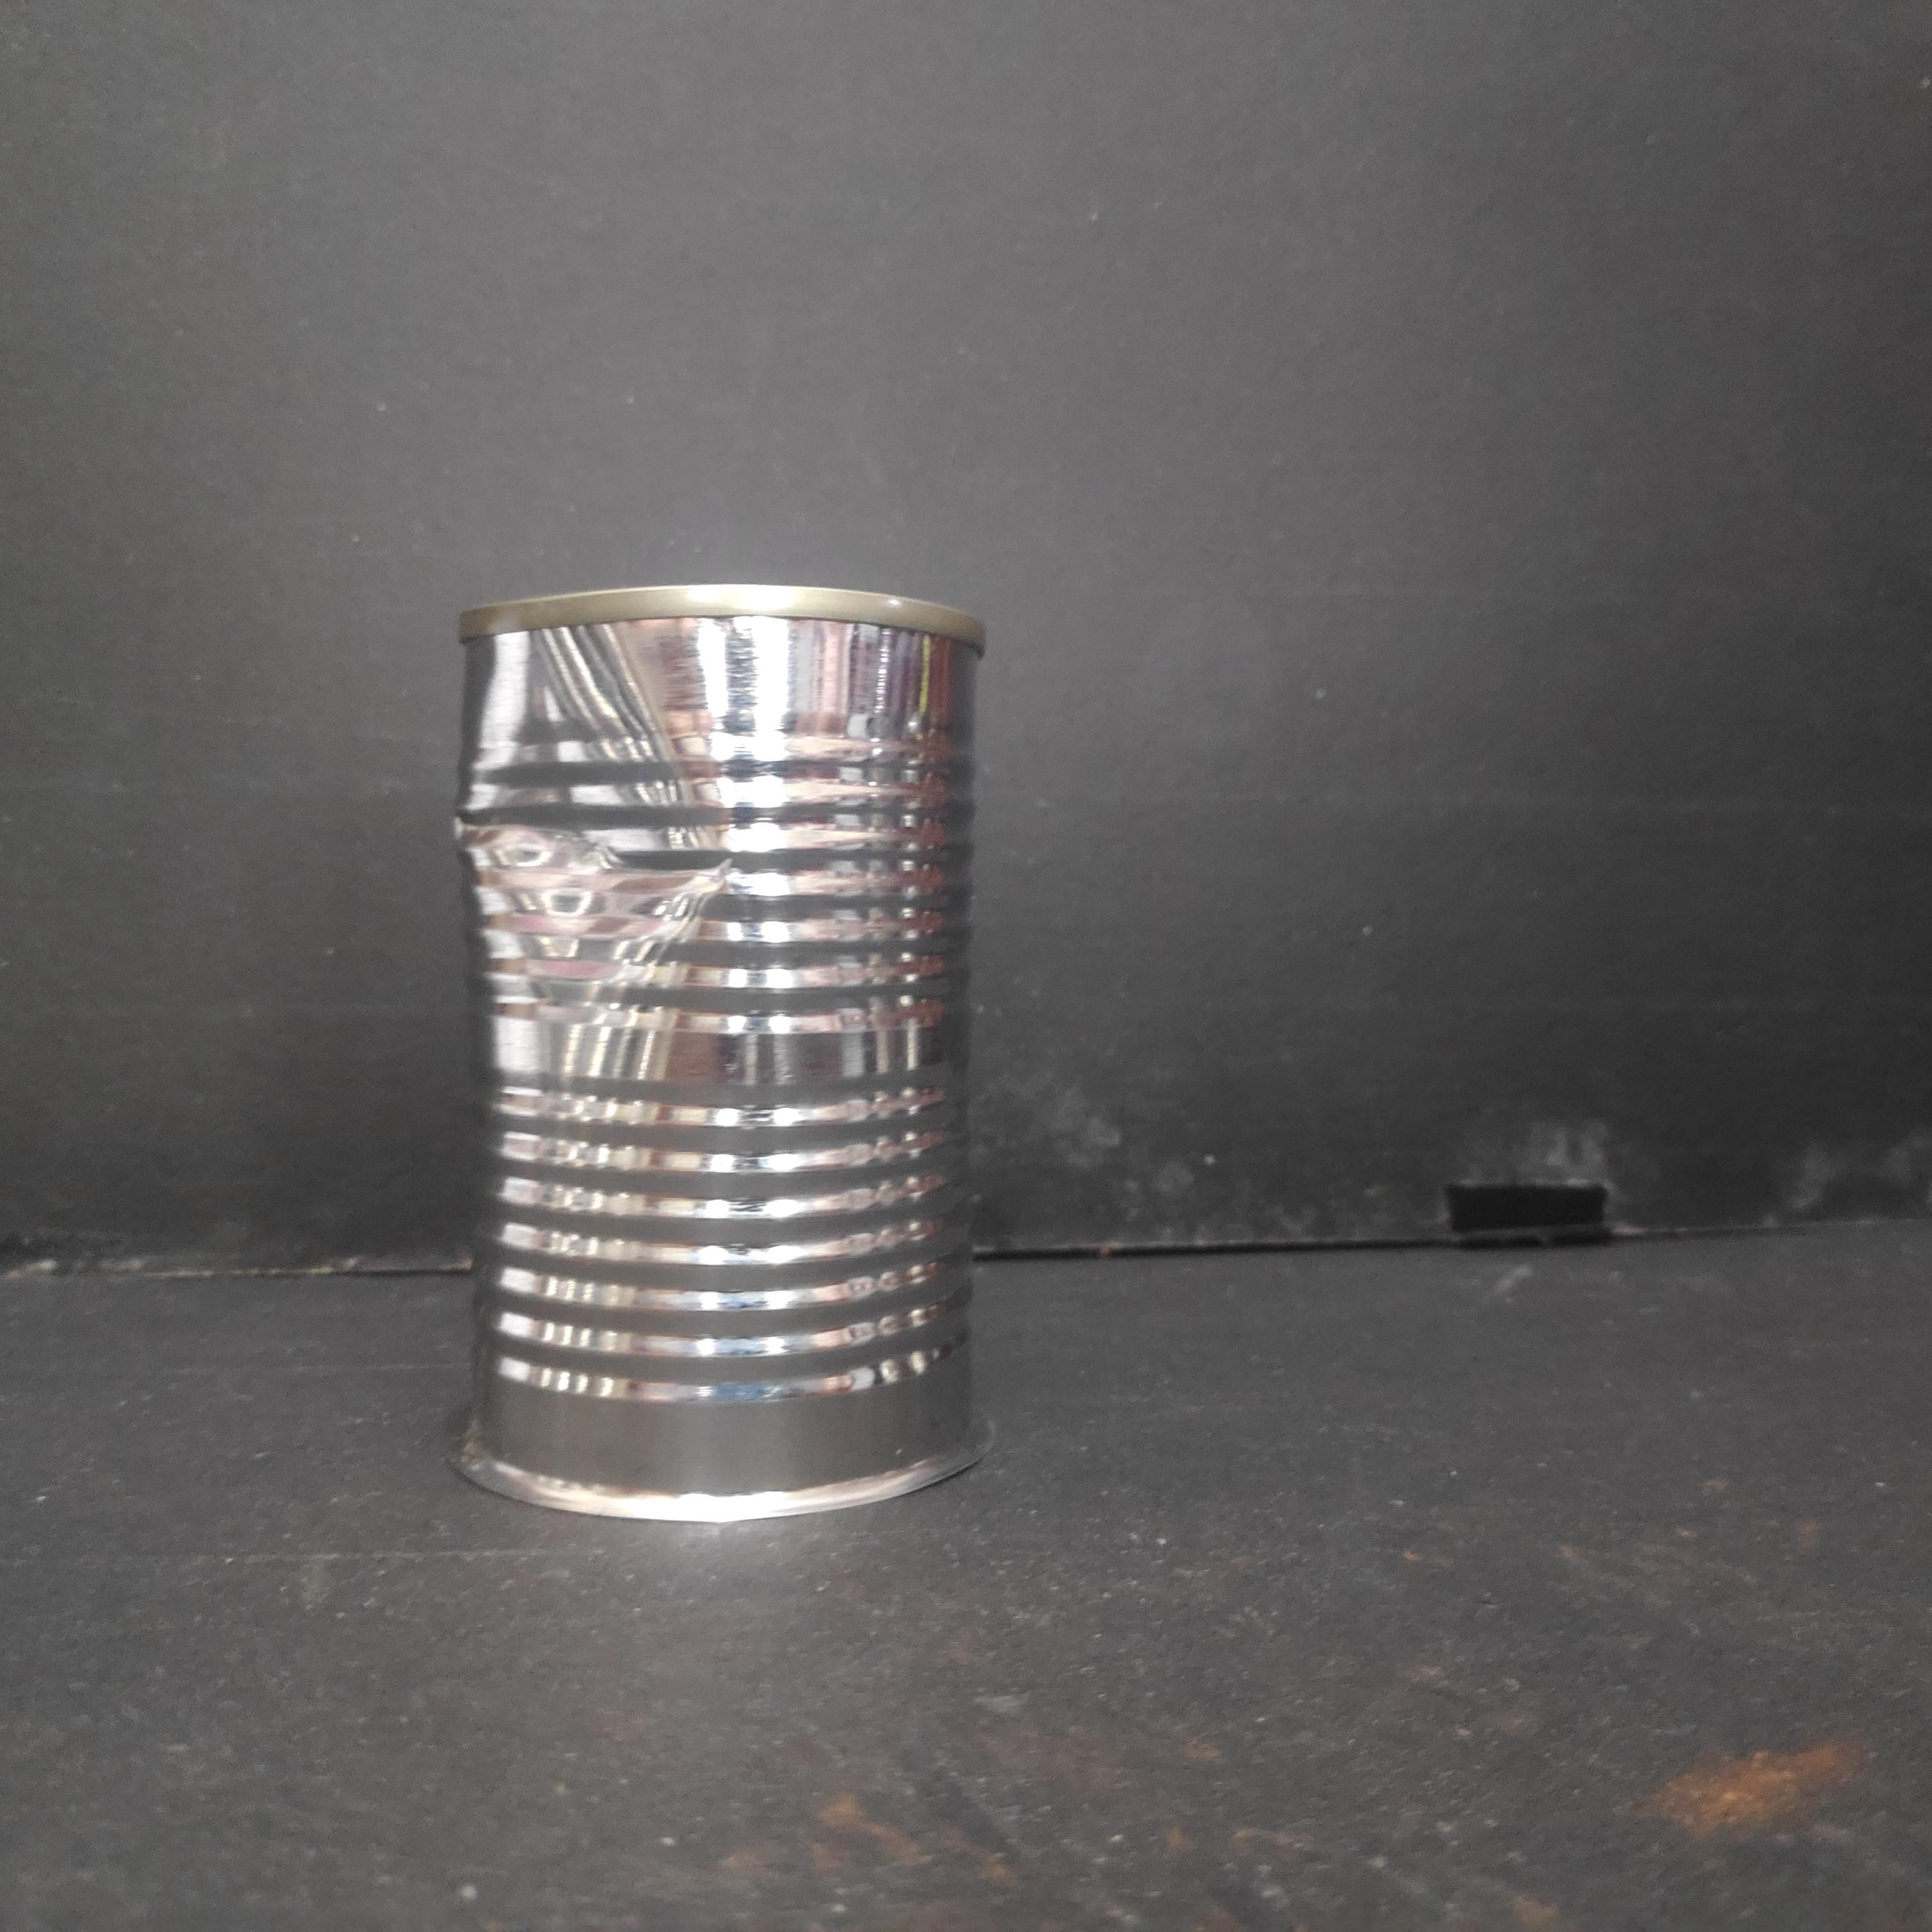Minor Defect: (439, 575, 1000, 1536)
